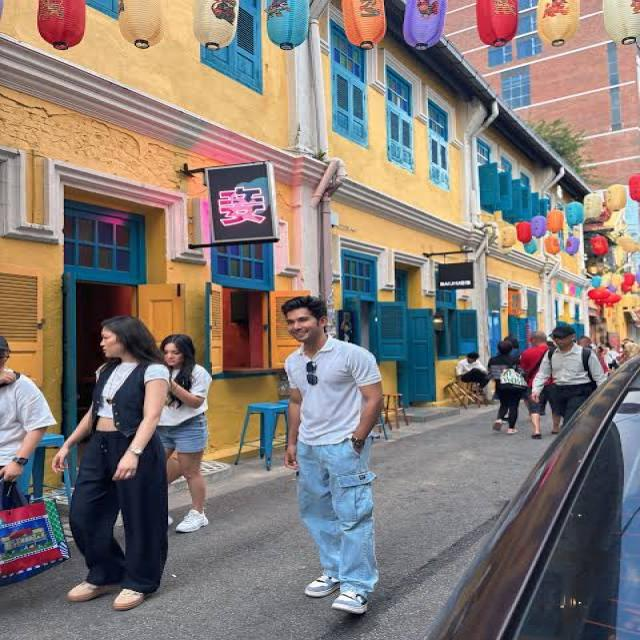Person: (270, 289, 397, 625), (58, 311, 171, 622)
